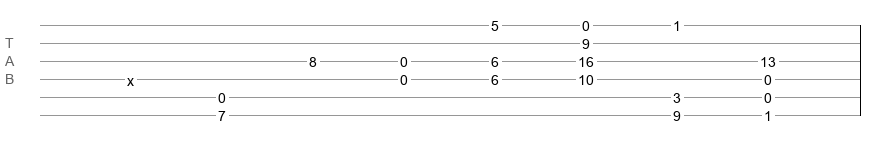0: (218, 90, 226, 100), (400, 72, 408, 82), (400, 54, 408, 64), (582, 18, 590, 28), (764, 72, 772, 82), (764, 90, 772, 100)
1: (673, 18, 681, 28), (764, 108, 772, 118)
10: (578, 72, 594, 82)
13: (760, 54, 776, 64)
16: (578, 54, 594, 64)
3: (673, 90, 681, 100)
5: (491, 18, 499, 28)
6: (491, 72, 499, 82), (491, 54, 499, 64)
7: (218, 108, 226, 118)
8: (309, 54, 317, 64)
9: (582, 36, 590, 46), (673, 108, 681, 118)
x: (127, 73, 134, 81)
